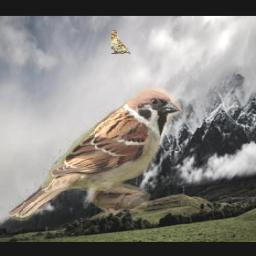Sparrow: (8, 87, 181, 221), (110, 31, 129, 55)
